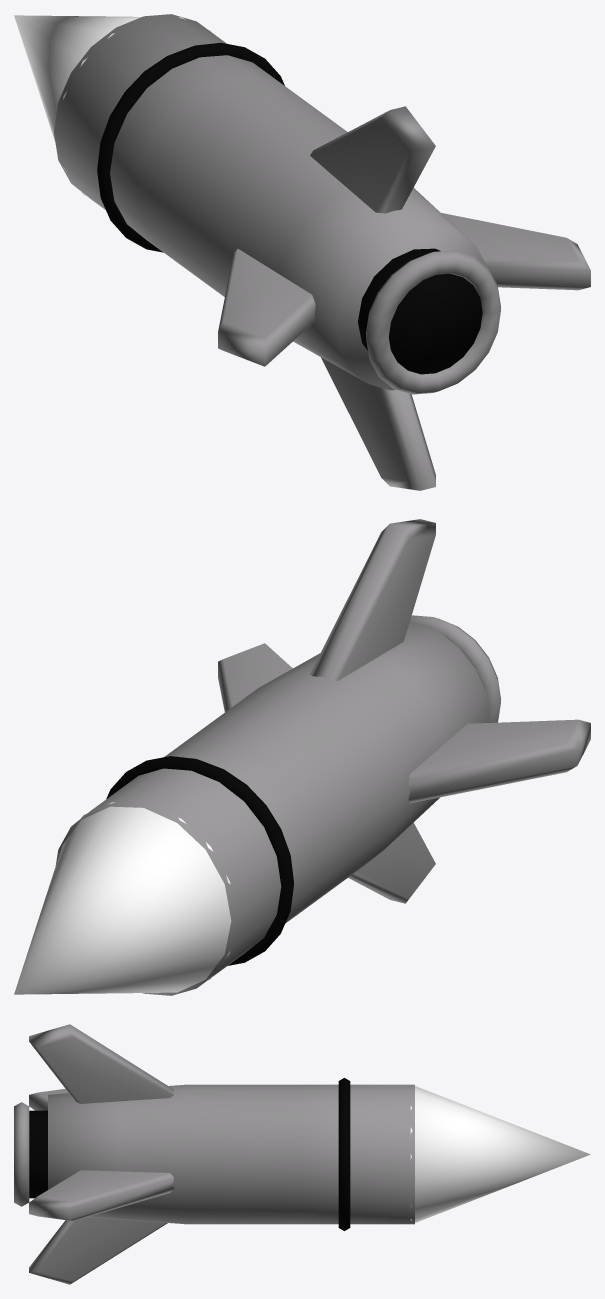
File: Rocket.glb
3 renders of one model, top to bottom at view 1: azimuth 30°, elevation 25°; view 2: azimuth 150°, elevation 25°; view 3: azimuth 270°, elevation 25°, orthographic. The views are drawn at different scales.
Parts seen in each view (by area): view 1: Body, Fins, Nozzle, Nose, Band; view 2: Body, Nose, Fins, Band, Nozzle; view 3: Body, Fins, Nose, Nozzle, Band.
Boxes of the visible parts, box(x1,y1,x2,y2) form: Body: box(54, 14, 487, 390); Fins: box(218, 106, 590, 490); Nozzle: box(358, 248, 500, 394); Nose: box(14, 15, 211, 196); Band: box(97, 42, 284, 252); Body: box(55, 621, 490, 995); Nose: box(14, 802, 231, 994); Fins: box(218, 519, 590, 903); Band: box(106, 756, 293, 965); Nozzle: box(410, 615, 500, 722); Body: box(48, 1084, 414, 1224); Fins: box(29, 1024, 173, 1284); Nose: box(410, 1086, 590, 1224); Nozzle: box(14, 1102, 47, 1206); Band: box(338, 1078, 350, 1230).
Size of the model in its own units: 0.5376 by 0.5376 by 1.1.
Materials: 1 (1 with a texture image).
